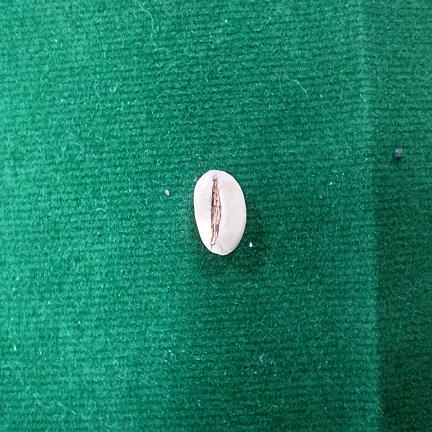immature: (194, 170, 246, 255)
